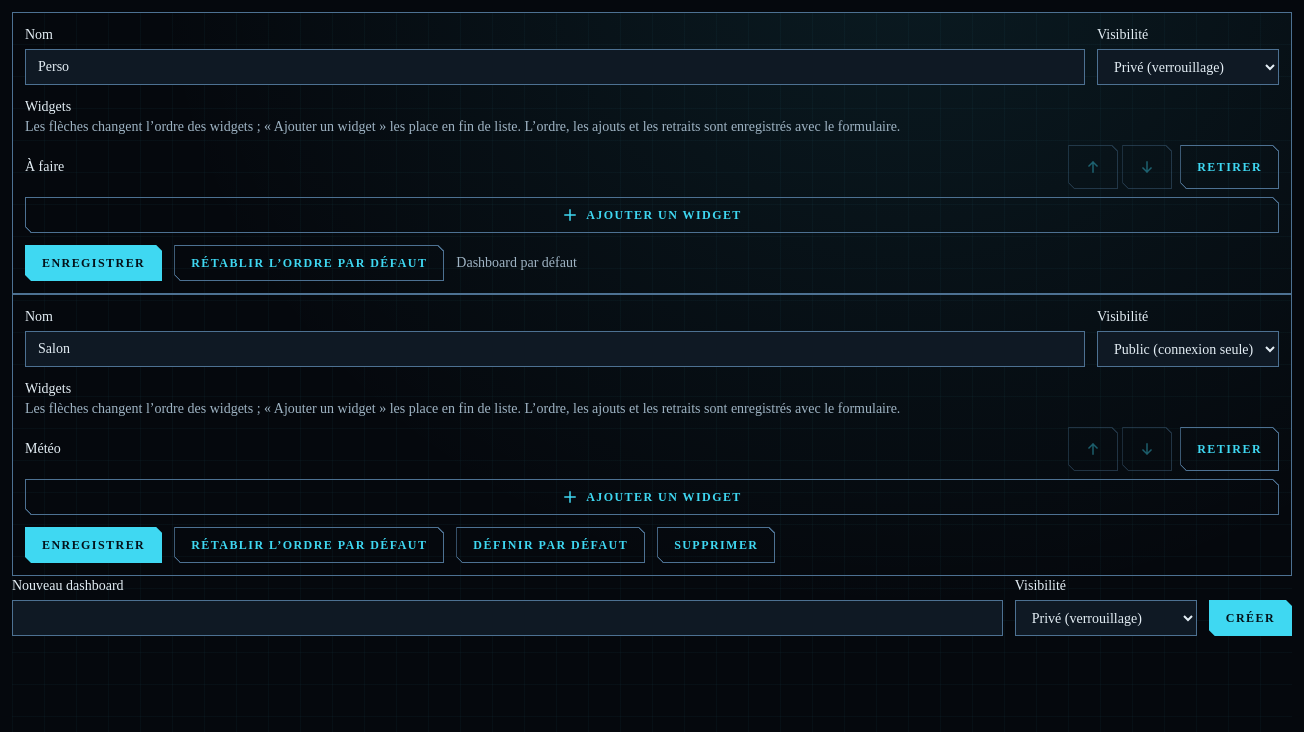
DashboardForms › appelle deleteDashboard (et pas saveDashboard) avec (null, FormData) au clic sur Supprimer
Click the button "Supprimer": (716,545) [657,527,775,563]
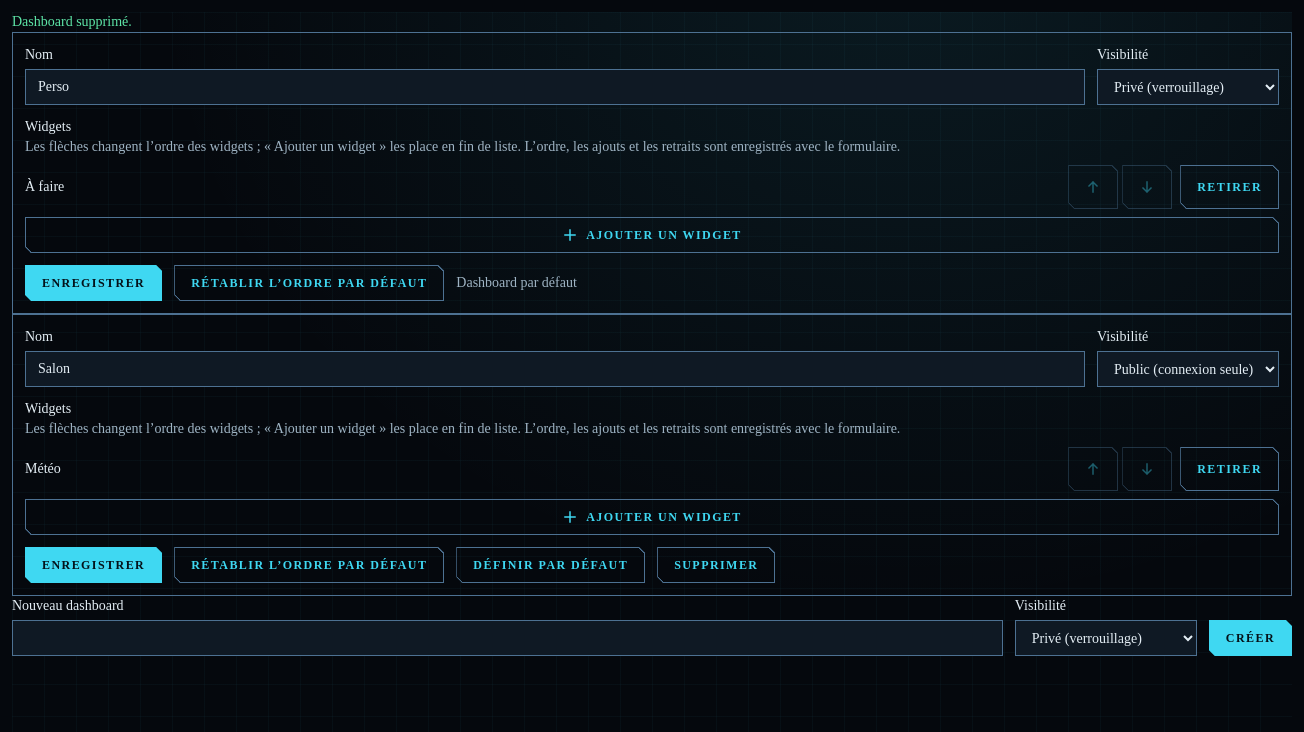
Expected: the text "Dashboard supprimé." is shown, [12,14,132,29]
